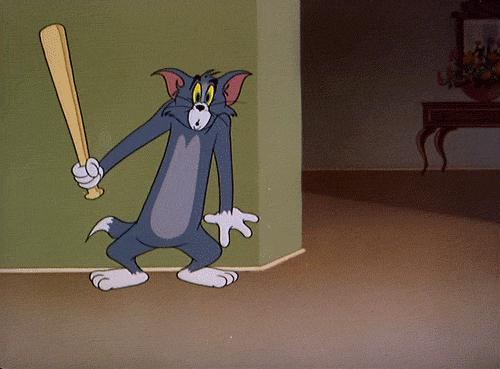tom: (70, 66, 259, 293)
